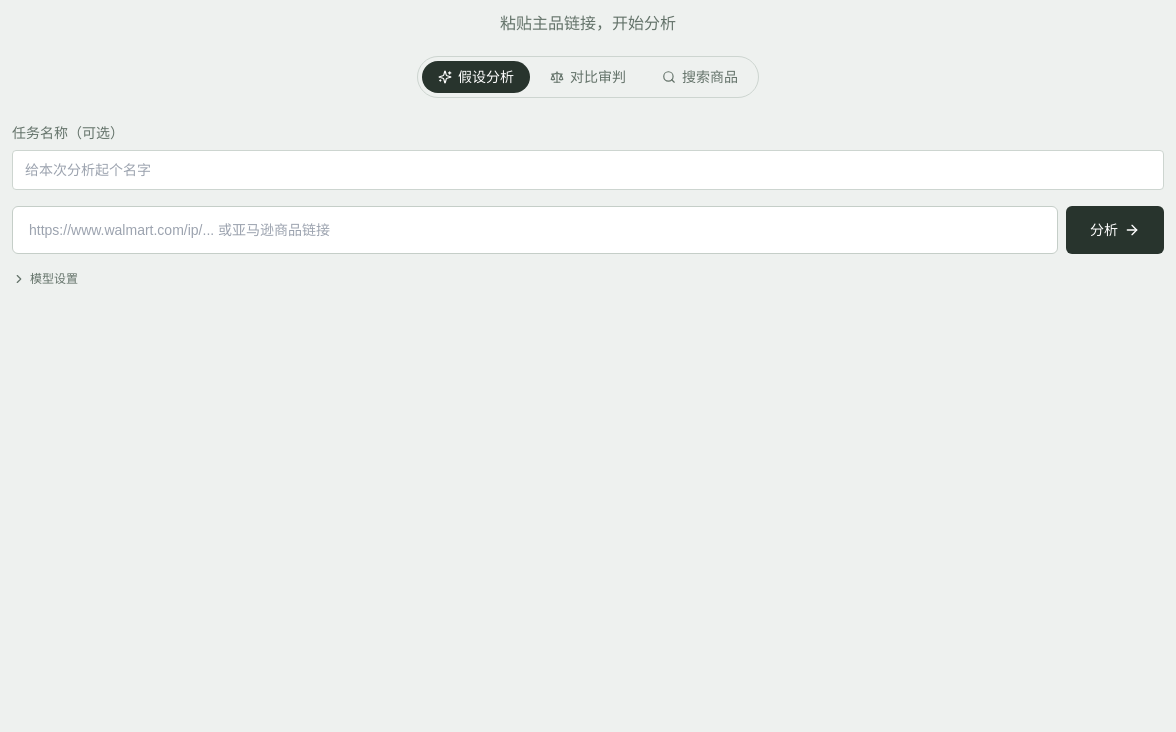
Test: switches to judgment tab on click
The image size is (1176, 732).
What coordinates should you click on to do the following:
click the tab "对比审判"
I would click on:
 (588, 77)
Its box is [534, 61, 642, 93].
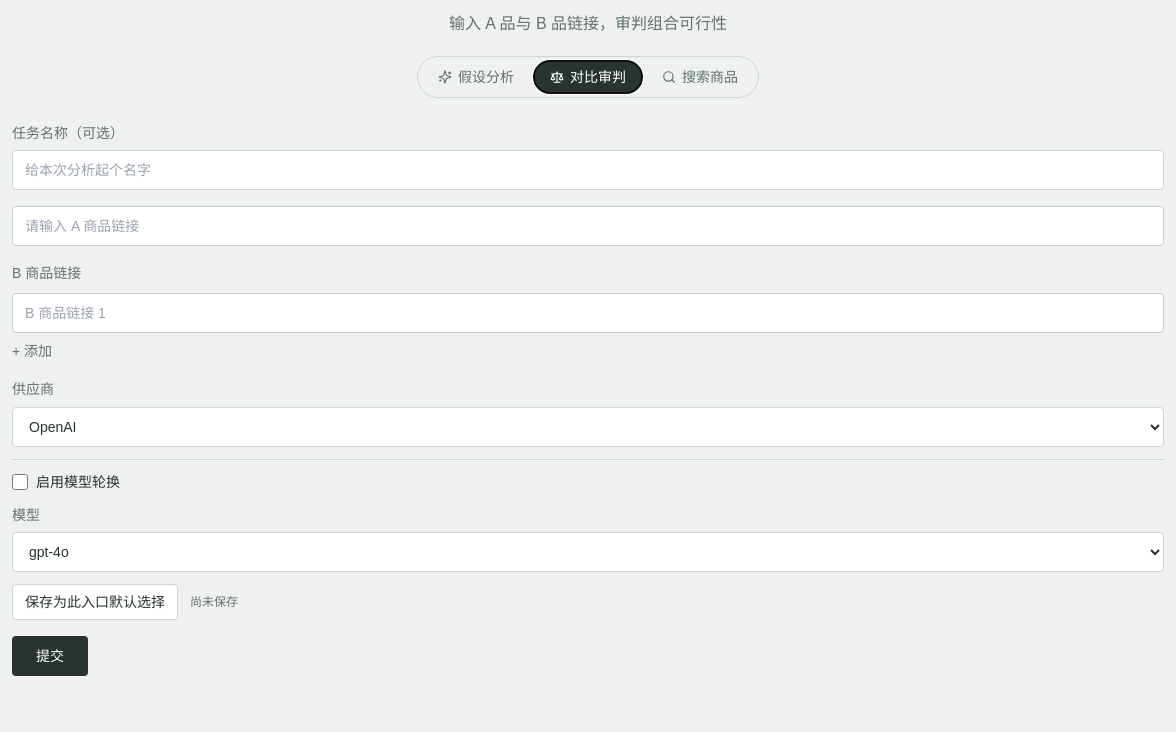
expect the field with placeholder "请输入 A 商品链接" is shown: met, box [12, 206, 1164, 246]
